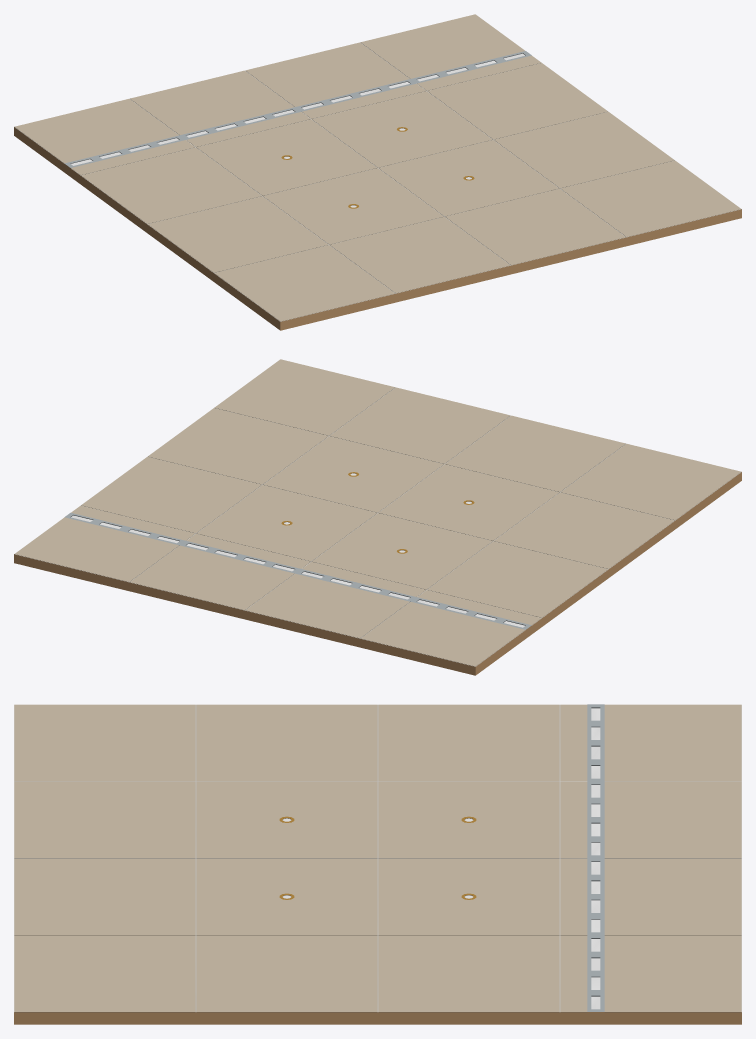
File: apron_tile.fbx
3 views of the same model, one above another, from view 1: azimuth 30°, elevation 25°; view 2: azimuth 150°, elevation 25°; view 3: azimuth 270°, elevation 25° (orthographic). The views are drawn at different scales.
Visible parts, largest first — view 1: apron_tile; view 2: apron_tile; view 3: apron_tile.
Part boxes in pixels (x1,y1,x2,y2): apron_tile: [14, 14, 741, 330]; apron_tile: [14, 359, 741, 675]; apron_tile: [14, 704, 741, 1024].
Bounding box in the file's own units: 16 × 0.3 × 16.
